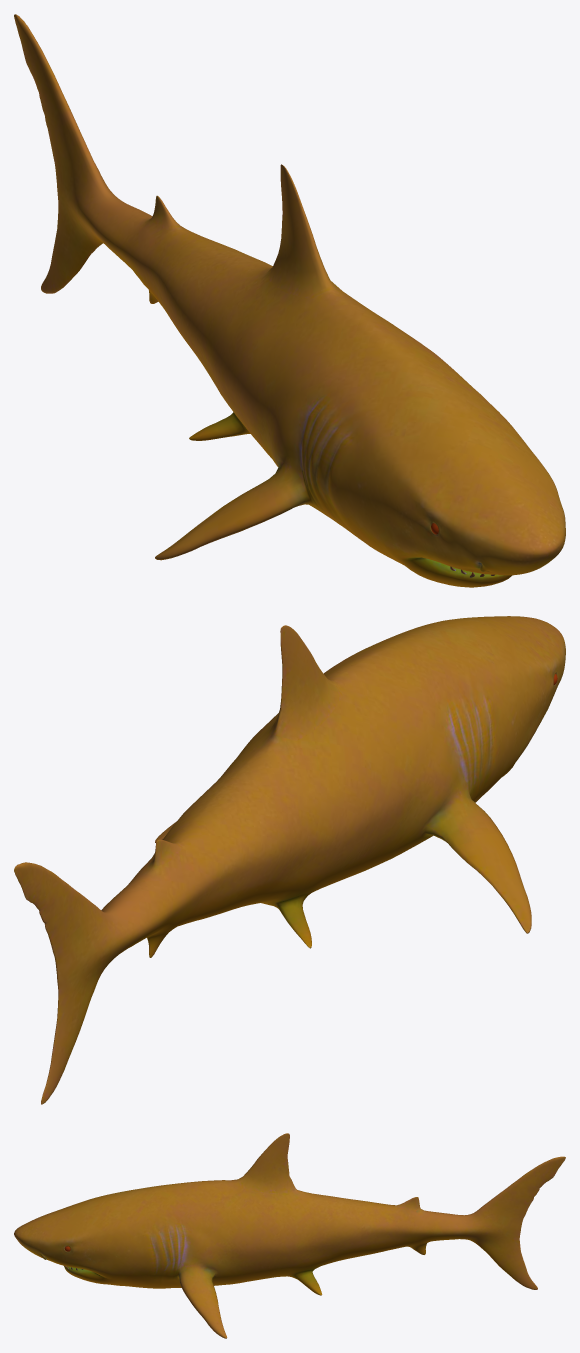
Rendered from Shark.glb.
The picture shows the model from 3 angles, top to bottom: view 1: azimuth 30°, elevation 25°; view 2: azimuth 150°, elevation 25°; view 3: azimuth 270°, elevation 25°; orthographic projection. The views are drawn at different scales.
Visible parts, largest first — view 1: shark.1; view 2: shark.1; view 3: shark.1.
Part boxes in pixels (x1=…): shark.1: x1=14, y1=14, x2=565, y2=587; shark.1: x1=14, y1=616, x2=565, y2=1104; shark.1: x1=14, y1=1133, x2=565, y2=1338.
Size of the model in its own units: 0.2246 by 0.1754 by 0.5545.
1 material, 1 textured.
